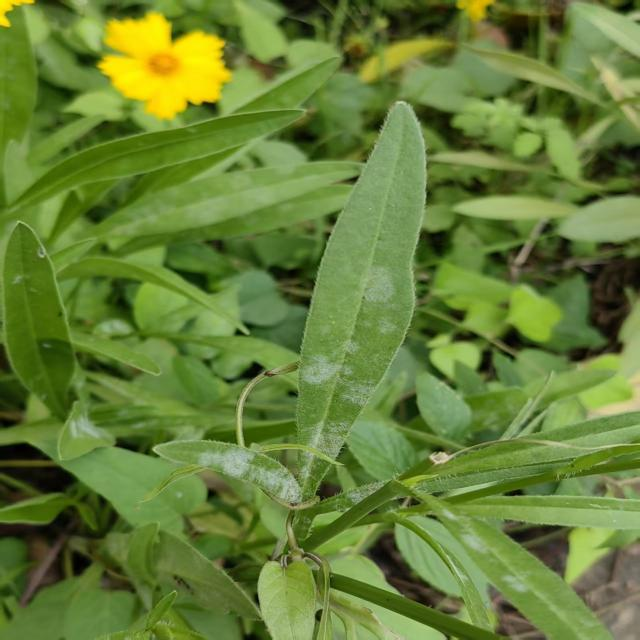powdery_mildew: (296, 103, 425, 458), (154, 440, 302, 503)
